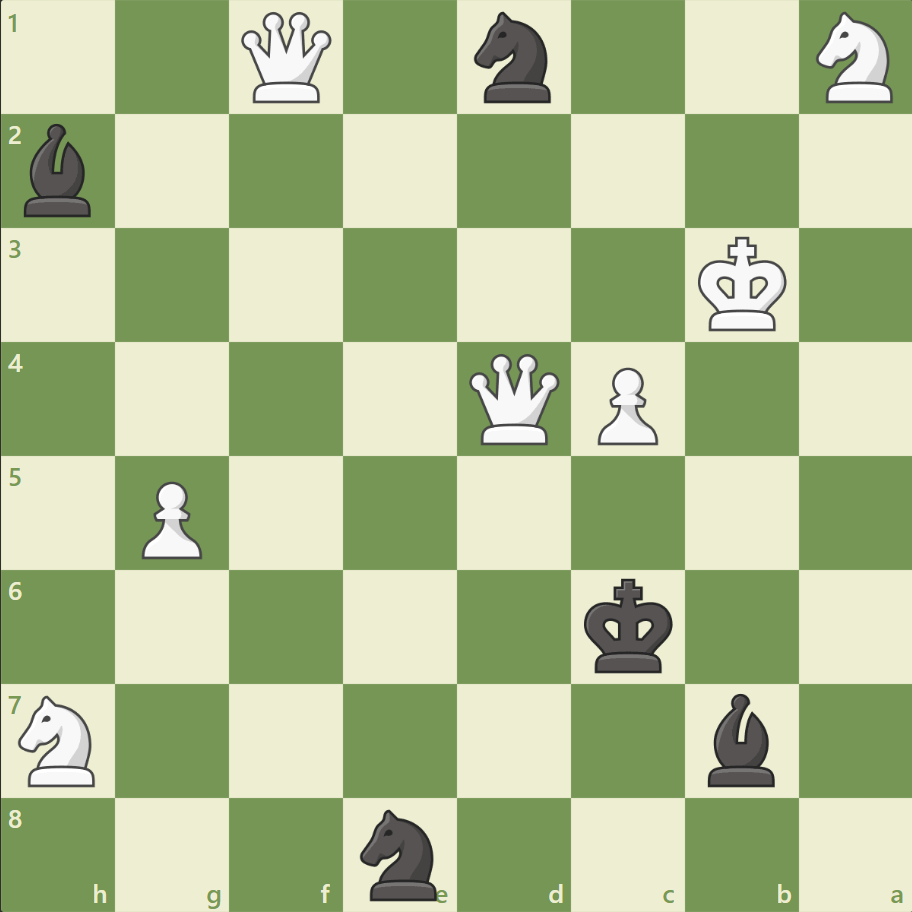K: (692, 231, 792, 339)
N: (11, 688, 108, 791), (806, 7, 903, 110)
P: (133, 473, 208, 564), (588, 359, 662, 450)
Q: (464, 349, 563, 449), (237, 9, 336, 108)
b: (698, 687, 782, 790), (17, 120, 101, 222)
k: (579, 571, 679, 679)
n: (351, 802, 449, 904), (465, 7, 562, 110)
